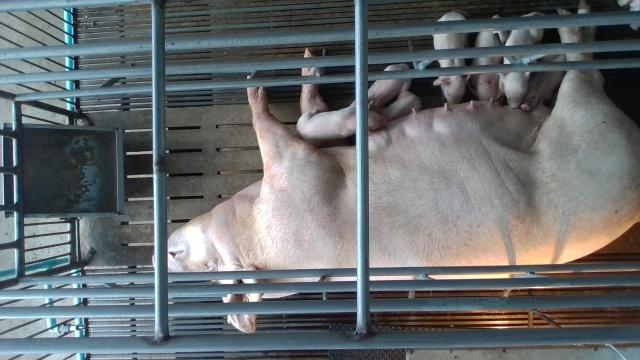piglet: (498, 9, 546, 109), (297, 98, 388, 146), (432, 8, 474, 107), (470, 12, 508, 103), (522, 53, 566, 111), (372, 89, 422, 131), (368, 64, 412, 108)
sow-sleep-lactate: (168, 0, 640, 335)
